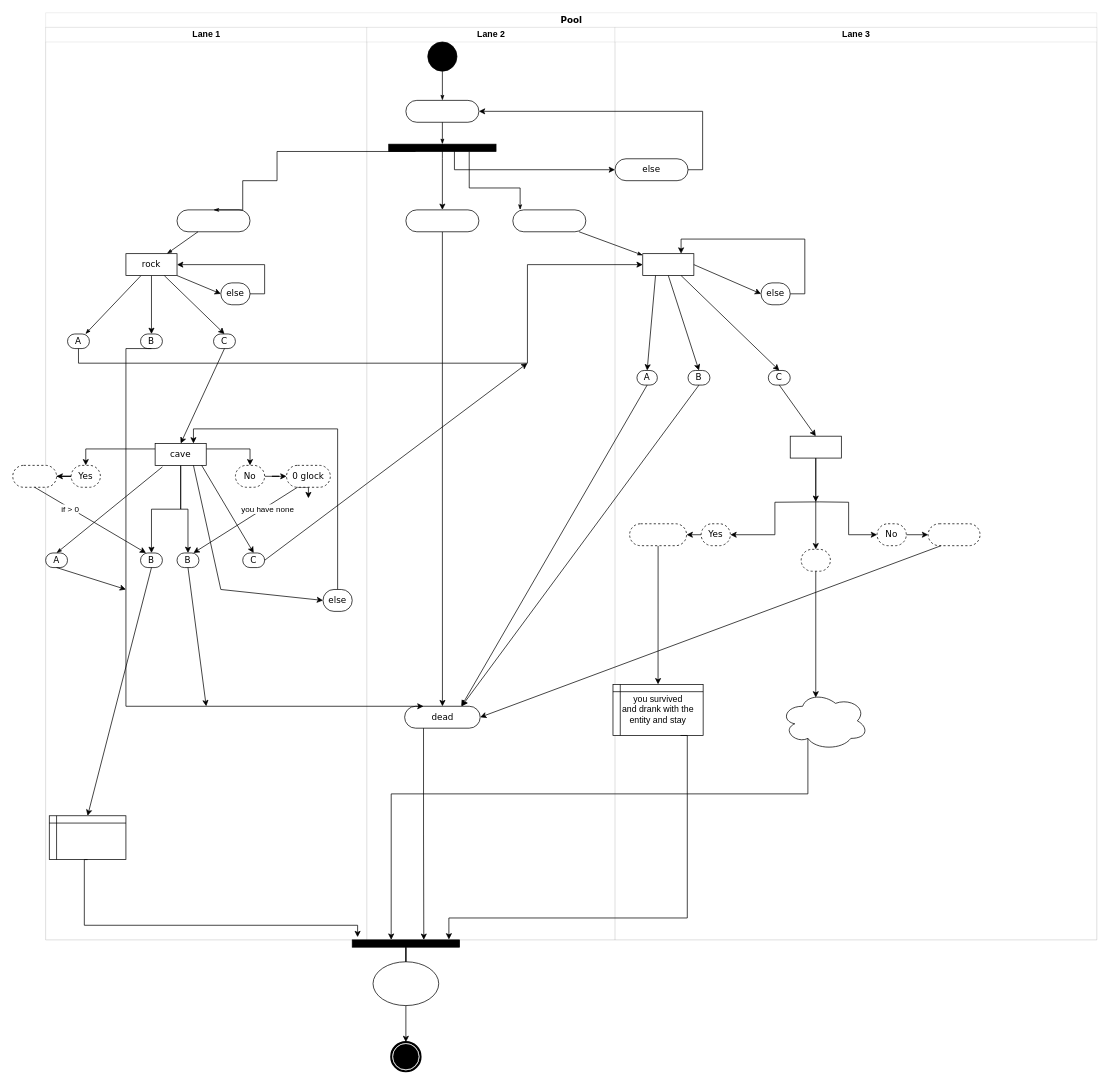
Image size: 1110x1084. Some labels were removed from this diagram. The shapes that lost their labels are listed below. From the top down, each one's centre as x and y in pixels, then its label:
point (442, 111): intro
point (213, 220): choice A
point (442, 220): choice B
point (549, 220): choice C
point (668, 264): run
point (815, 446): town
point (34, 476): +1glock
point (658, 534): +1beercan
point (953, 534): 0 beercan
point (815, 560): Drink
point (824, 720): secret ending
point (87, 837): you survived and leave store
point (405, 983): it was a coma?
